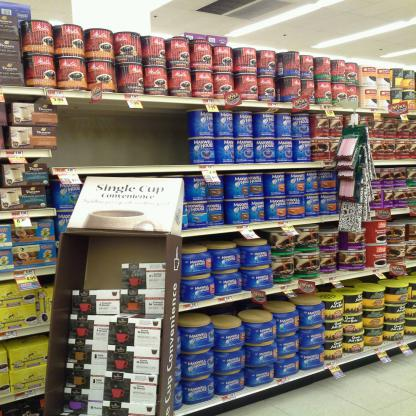Void: (55, 105, 189, 163), (76, 237, 116, 286), (122, 238, 163, 259)
